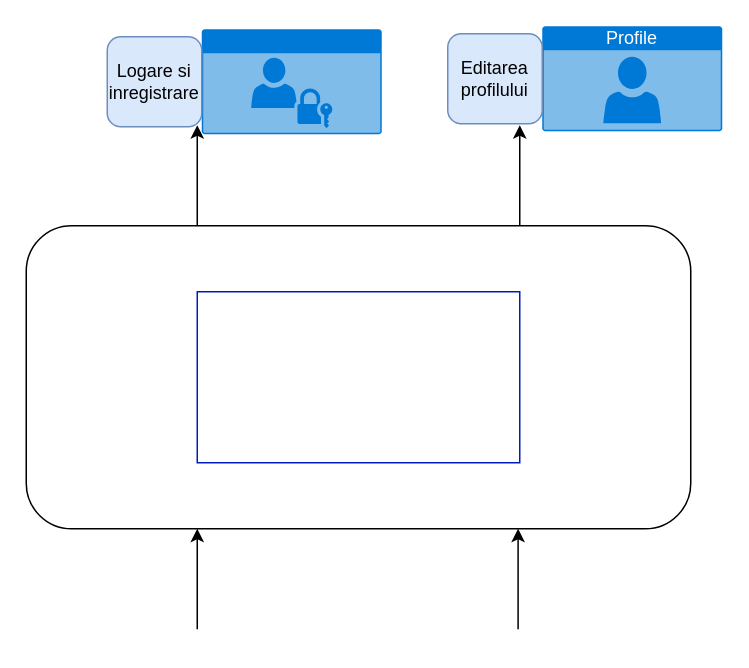
Image size: 749x668. Some labels were removed from this diagram. The shapes that lost their labels are listed below. From the top down, each one's centre as x and y in pixels, then its label:
(x=291, y=81): Login
(x=358, y=376): Functiile acestui proiect
